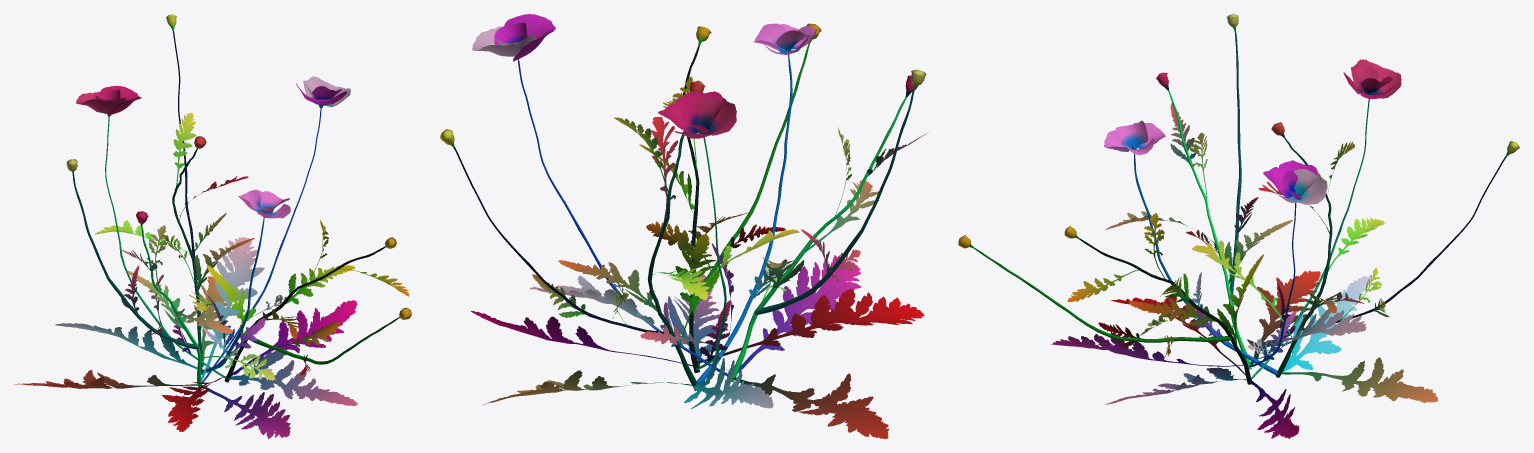
The model's file is Field_Poppy_vmcobd0ja_Raw_vmcobd0ja_VarD_LOD0.fbx.
3 views of the same model, side by side, from view 1: azimuth 30°, elevation 25°; view 2: azimuth 150°, elevation 25°; view 3: azimuth 270°, elevation 25° (orthographic). The views are drawn at different scales.
Parts seen in each view (by area): view 1: _0j3f_VarD_High; view 2: _0j3f_VarD_High; view 3: _0j3f_VarD_High.
Boxes of the visible parts, <box> form: _0j3f_VarD_High: <box>14,14,411,438</box>; _0j3f_VarD_High: <box>440,14,928,438</box>; _0j3f_VarD_High: <box>958,14,1519,438</box>.
Size of the model in its own units: 54.94 by 42.33 by 75.53.
